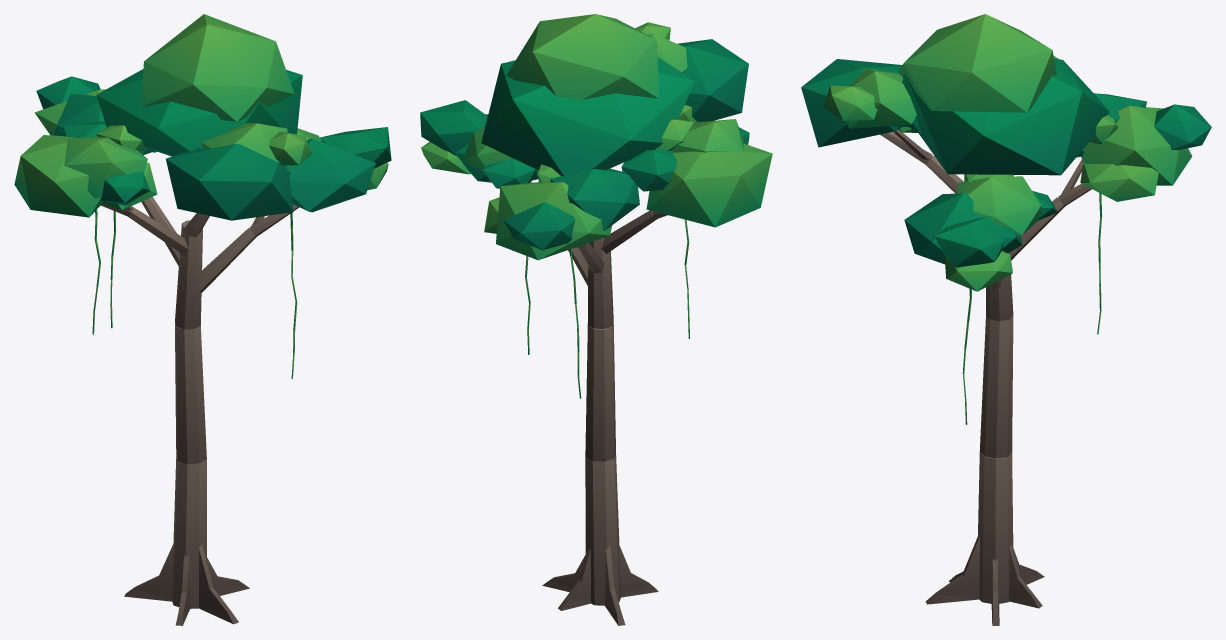
Rendered from jungle_tree.glb.
The picture shows the model from 3 angles, left to right: view 1: azimuth 30°, elevation 25°; view 2: azimuth 150°, elevation 25°; view 3: azimuth 270°, elevation 25°; orthographic projection.
Visible parts, largest first — view 1: jungle_tree; view 2: jungle_tree; view 3: jungle_tree.
Boxes of the visible parts, <box> form: jungle_tree: <box>14,14,391,625</box>; jungle_tree: <box>420,14,772,625</box>; jungle_tree: <box>801,14,1211,625</box>.
Size of the model in its own units: 10.99 by 17.39 by 10.99.
1 material, 1 textured.
